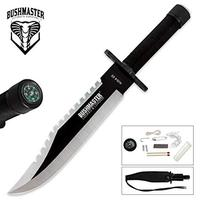knife: (5, 2, 184, 197)
